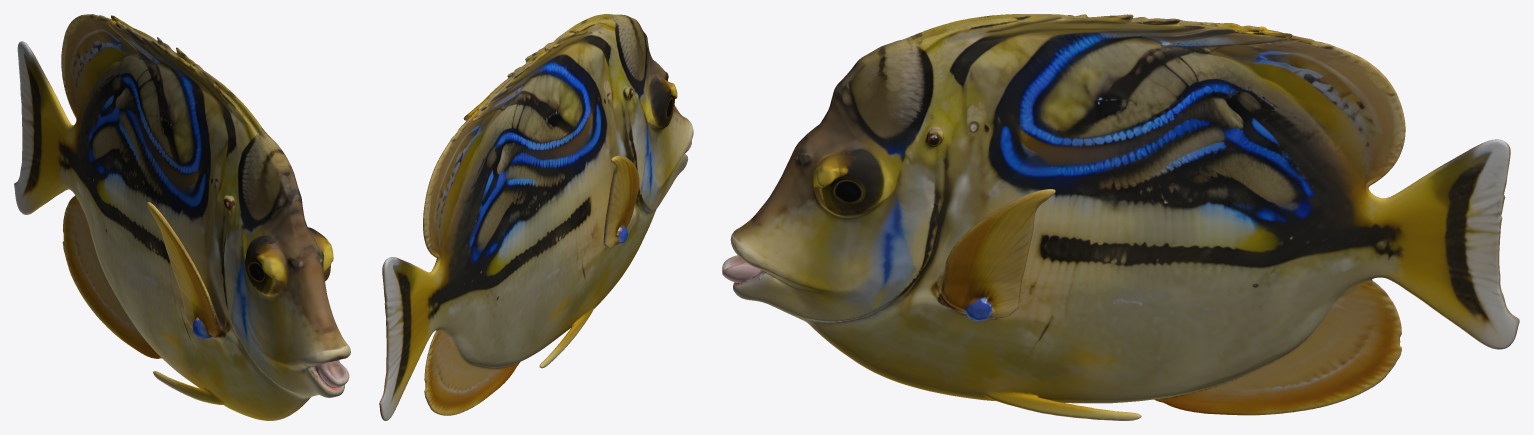
Rendered from trop_triggerfish.glb.
The picture shows the model from 3 angles, left to right: view 1: azimuth 30°, elevation 25°; view 2: azimuth 150°, elevation 25°; view 3: azimuth 270°, elevation 25°; orthographic projection. The views are drawn at different scales.
Parts seen in each view (by area): view 1: tripo_node_e1e6ff34-7094-4775-bfae-513e77655913; view 2: tripo_node_e1e6ff34-7094-4775-bfae-513e77655913; view 3: tripo_node_e1e6ff34-7094-4775-bfae-513e77655913.
Part boxes in pixels (x1,y1,x2,y2): tripo_node_e1e6ff34-7094-4775-bfae-513e77655913: [14, 14, 350, 420]; tripo_node_e1e6ff34-7094-4775-bfae-513e77655913: [379, 14, 693, 420]; tripo_node_e1e6ff34-7094-4775-bfae-513e77655913: [722, 14, 1519, 420].
Bounding box in the file's own units: 0.2102 × 0.5564 × 1.
1 material, 1 textured.
